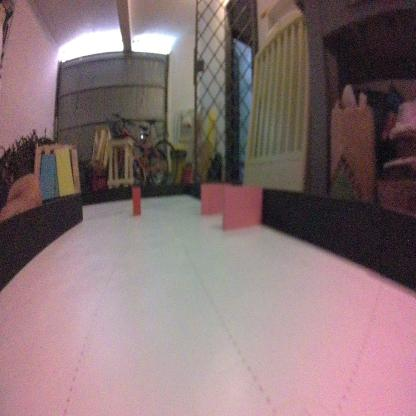magenta: (220, 184, 262, 232), (200, 182, 231, 216)
red: (131, 185, 141, 212)
